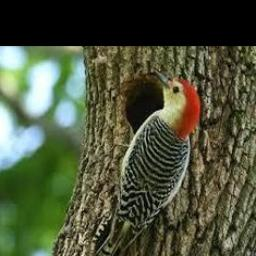Woodpecker: (82, 70, 200, 256)
